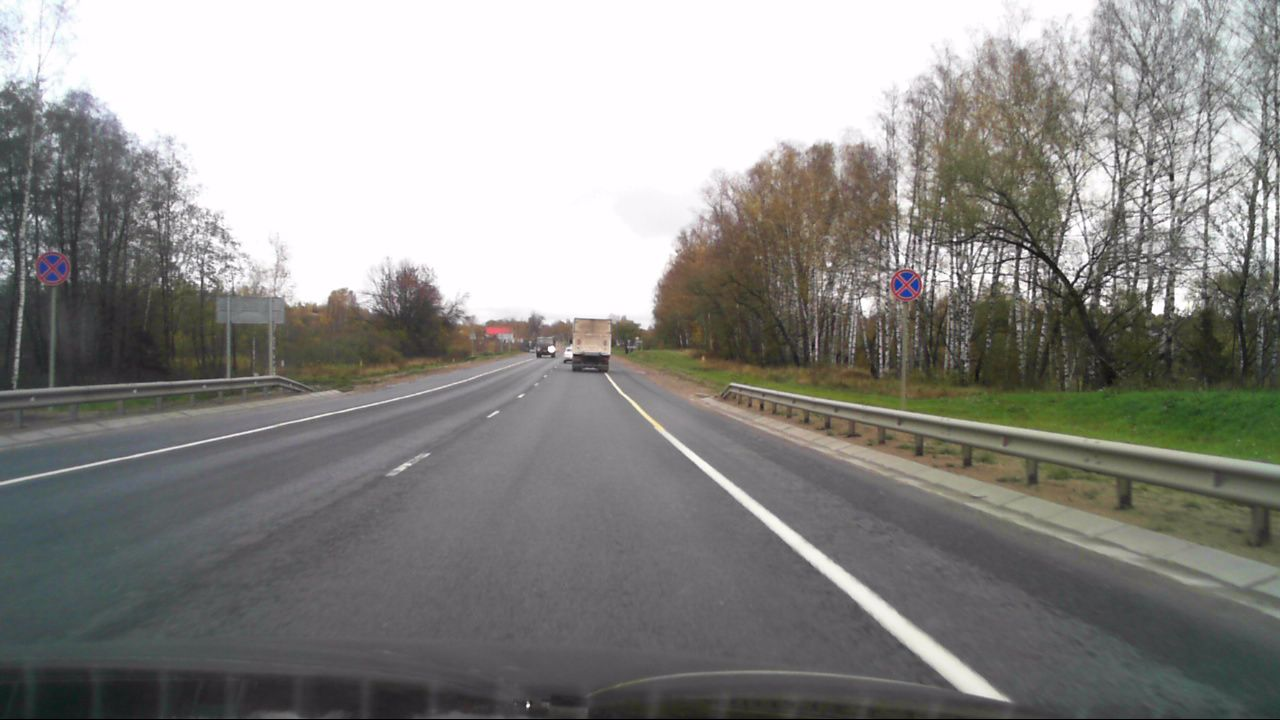No Parking: (890, 268, 923, 301)
